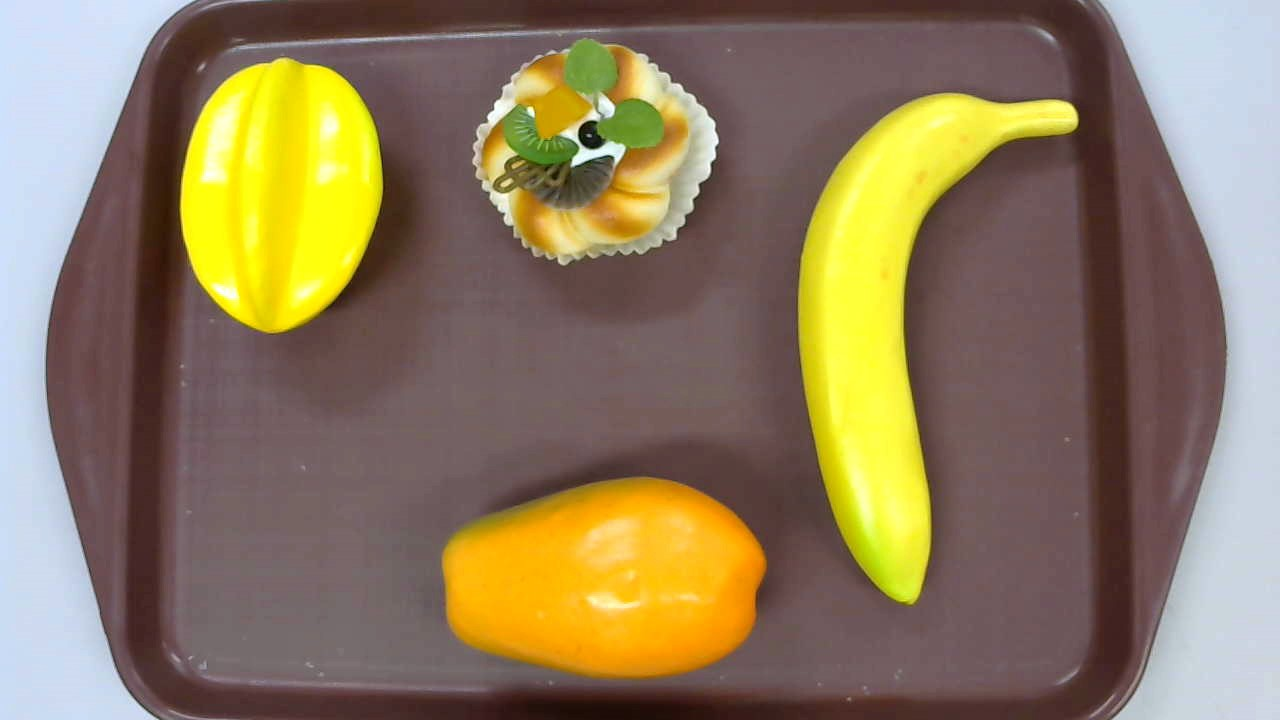banana: (796, 92, 1078, 606)
fruit tart: (472, 35, 720, 269)
papya: (441, 477, 767, 680)
star fruit: (178, 57, 383, 334)
